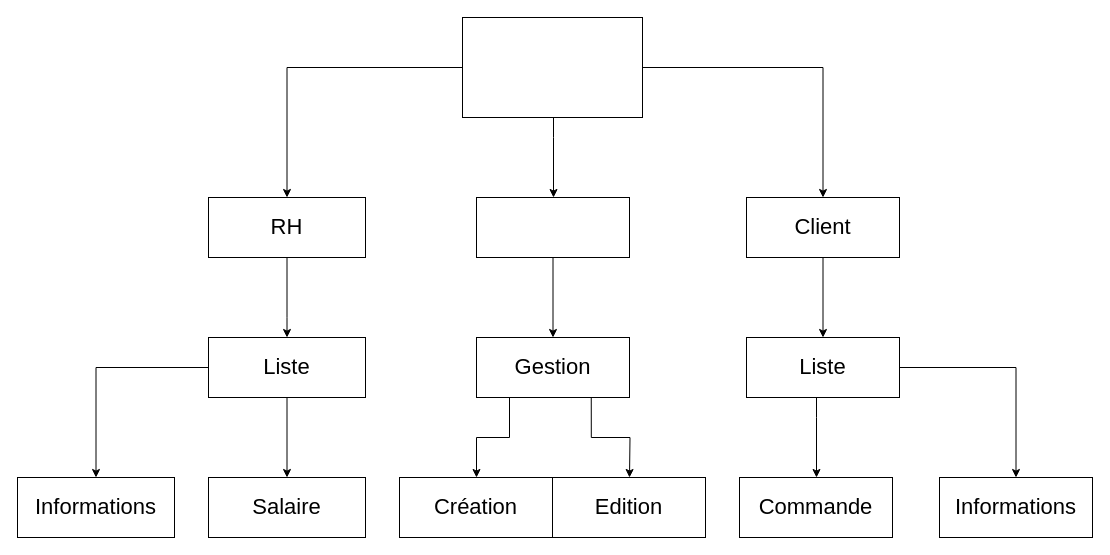
Image size: 1110x555. Some labels were removed from this diagram. Here are the shapes that lost their labels. From the top down, the centre of each, then its label:
the point at 552,67: Acceuil
the point at 553,227: Factures
